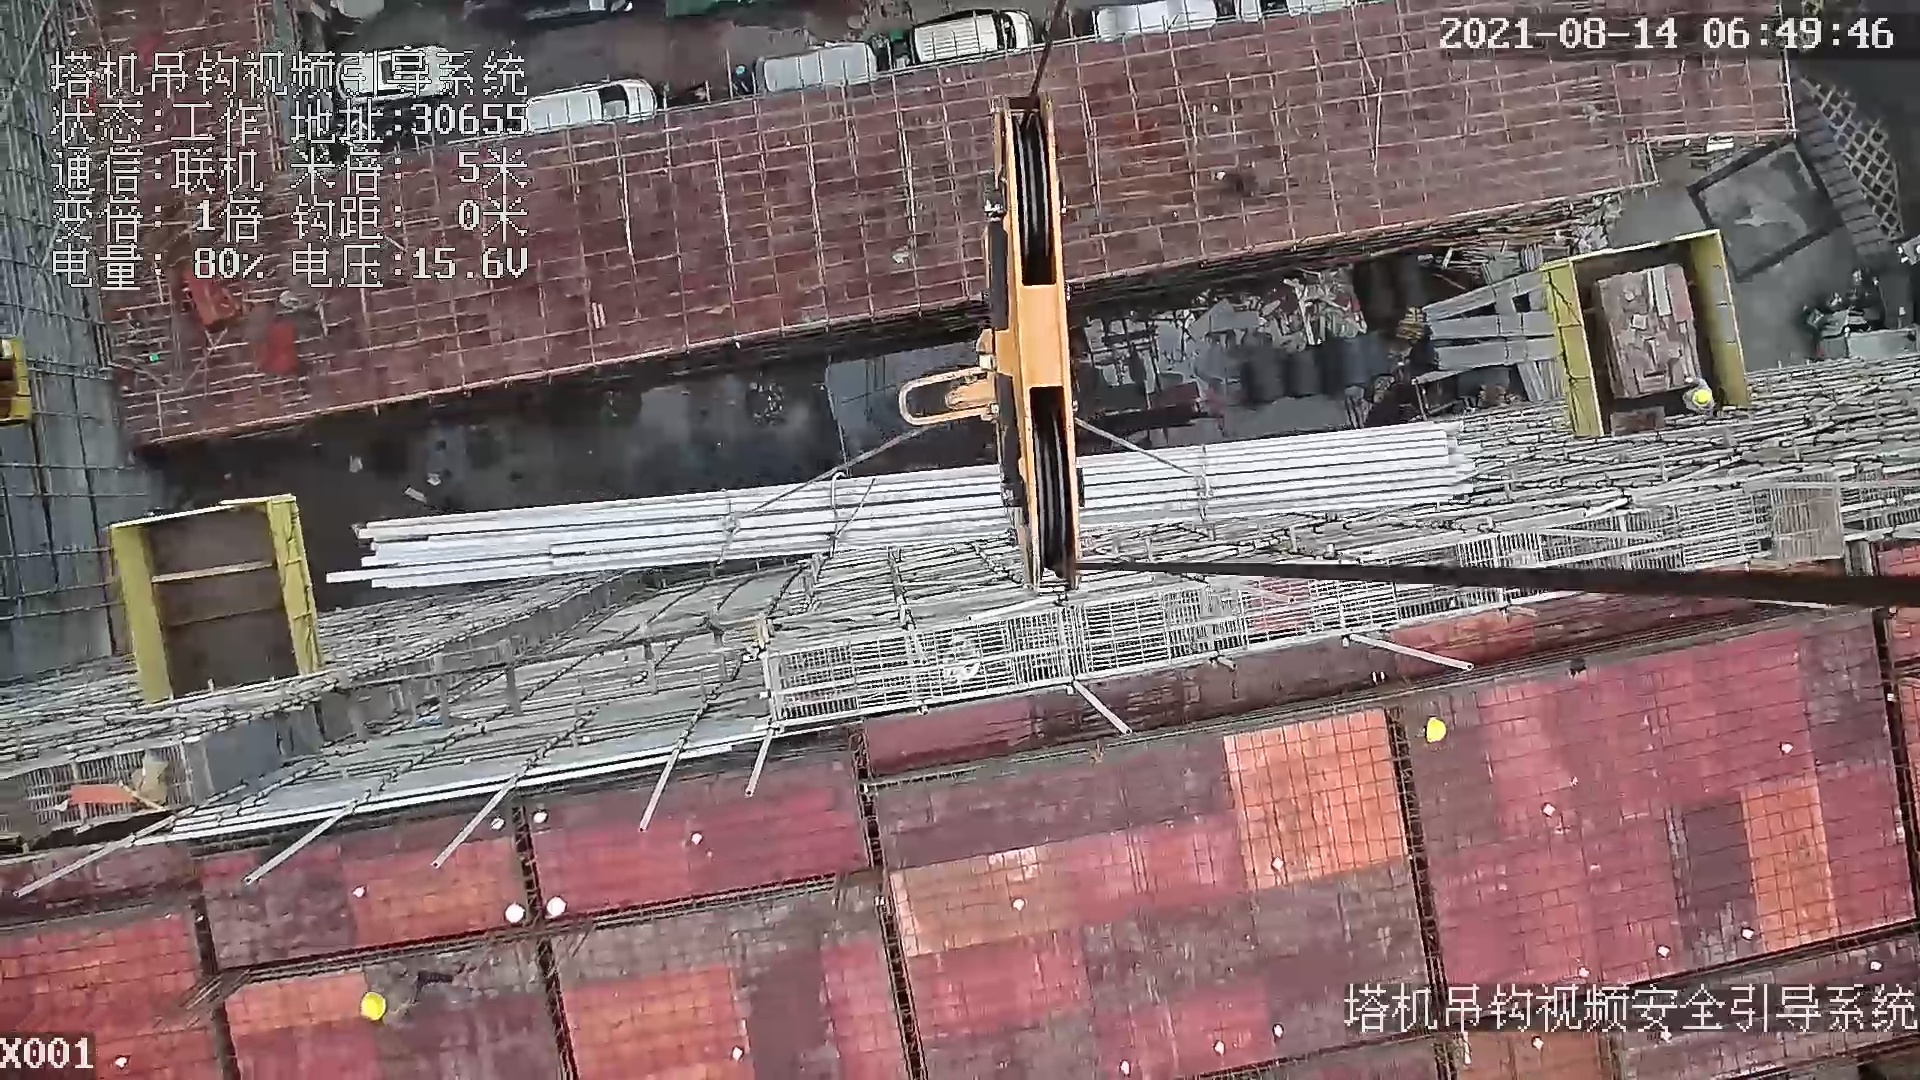helmet: (1417, 709, 1461, 746), (359, 990, 398, 1027), (1690, 387, 1713, 405)
person: (354, 984, 446, 1037), (1683, 377, 1724, 424)
